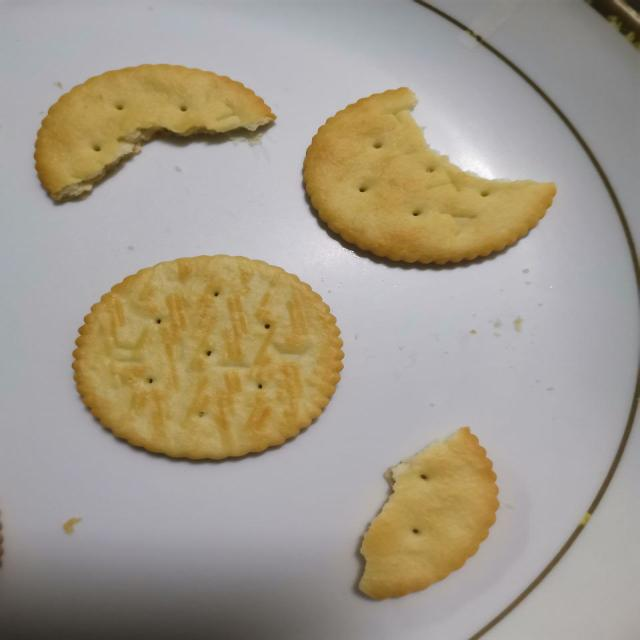broken biscuit: (300, 85, 557, 265), (32, 62, 276, 204), (348, 409, 506, 596)
intact biscuit: (70, 253, 345, 461)
